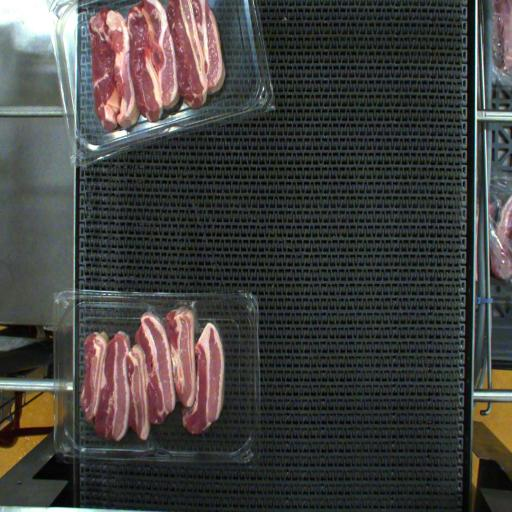unsealed: (117, 293, 234, 369)
